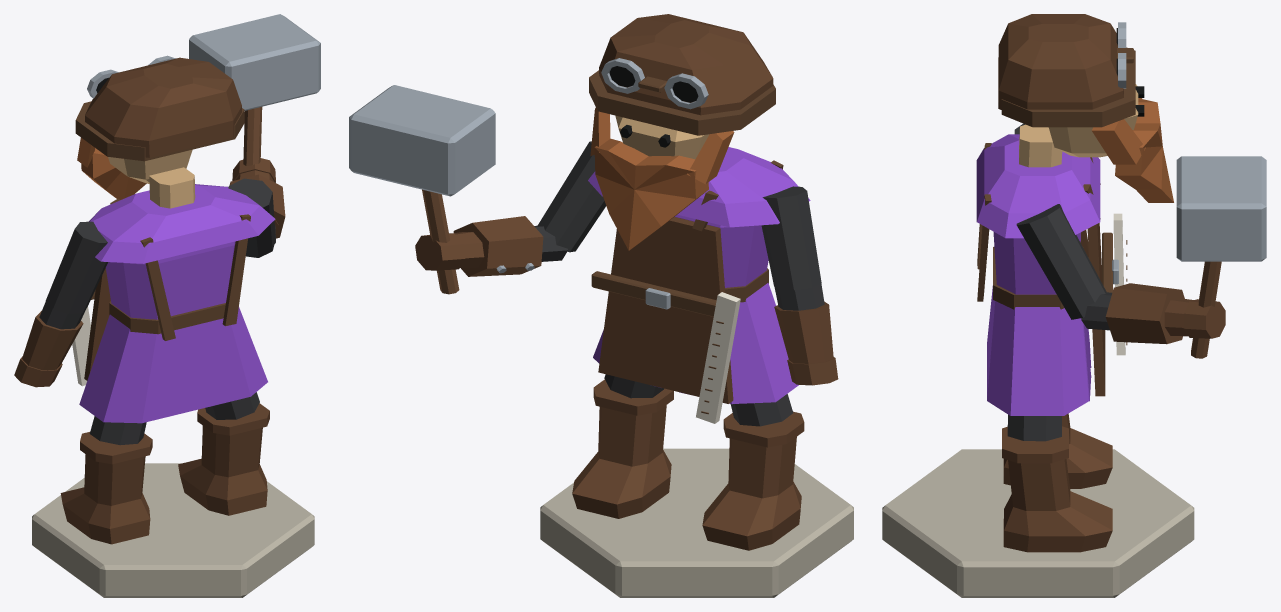
The model's file is human_runebreaker_t3.glb.
3 renders of one model, left to right at view 1: azimuth 30°, elevation 25°; view 2: azimuth 150°, elevation 25°; view 3: azimuth 270°, elevation 25°, orthographic. The views are drawn at different scales.
Visible parts, largest first — view 1: Foundation_Hexagonal_Stone, Continuous_Split_Tunic_Skirt, engineer_plain_faceted_workcap, Continuous_Shoulder_Mantle, engineer_plain_iron_hammer_head, Continuous_Tunic_Bodice, Boot_1, Boot_-1, left_upper_sleeve, left_bracer, engineer_broad_brown_cap_band, Small_Neck (+17 smaller); view 2: Foundation_Hexagonal_Stone, engineer_plain_leather_apron, engineer_plain_iron_hammer_head, engineer_plain_faceted_workcap, Boot_-1, Boot_1, engineer_one_copper_beard_wedge, Continuous_Split_Tunic_Skirt, Continuous_Shoulder_Mantle, left_upper_sleeve, engineer_broad_brown_cap_band, right_upper_sleeve (+18 smaller); view 3: Foundation_Hexagonal_Stone, engineer_plain_faceted_workcap, Continuous_Split_Tunic_Skirt, engineer_plain_iron_hammer_head, Continuous_Shoulder_Mantle, Boot_1, right_upper_sleeve, engineer_right_working_forearm_wide_leather_bracer, engineer_one_copper_beard_wedge, engineer_broad_brown_cap_band, Continuous_Tunic_Bodice, Boot_-1 (+14 smaller).
Boxes of the visible parts, x1,y1,x2,y2 form: Foundation_Hexagonal_Stone: (32,463,314,597); Continuous_Split_Tunic_Skirt: (79,307,267,423); engineer_plain_faceted_workcap: (85,57,241,157); Continuous_Shoulder_Mantle: (89,184,275,263); engineer_plain_iron_hammer_head: (189,14,320,110); Continuous_Tunic_Bodice: (105,241,235,319); Boot_1: (178,425,267,515); Boot_-1: (60,454,150,544); left_upper_sleeve: (45,221,107,313); left_bracer: (22,310,83,370); engineer_broad_brown_cap_band: (75,101,244,161); Small_Neck: (149,167,195,208); Foundation_Hexagonal_Stone: (540,448,853,597); engineer_plain_leather_apron: (598,217,733,403); engineer_plain_iron_hammer_head: (349,85,495,196); engineer_plain_faceted_workcap: (599,14,773,115); Boot_-1: (702,437,801,550); Boot_1: (572,405,671,518); engineer_one_copper_beard_wedge: (594,138,708,250); Continuous_Split_Tunic_Skirt: (593,283,798,403); Continuous_Shoulder_Mantle: (588,147,810,227); left_upper_sleeve: (761,186,821,290); engineer_broad_brown_cap_band: (589,70,775,135); right_upper_sleeve: (537,141,606,252); Foundation_Hexagonal_Stone: (882,449,1194,597); engineer_plain_faceted_workcap: (998,14,1123,109); Continuous_Split_Tunic_Skirt: (987,286,1088,415); engineer_plain_iron_hammer_head: (1176,156,1266,261); Continuous_Shoulder_Mantle: (976,134,1100,238); Boot_1: (1003,459,1112,552); right_upper_sleeve: (1016,204,1106,319); engineer_right_working_forearm_wide_leather_bracer: (1105,283,1184,344); engineer_one_copper_beard_wedge: (1115,99,1173,202); engineer_broad_brown_cap_band: (1001,47,1135,127); Continuous_Tunic_Bodice: (993,232,1080,294); Boot_-1: (1003,413,1112,488).
Bounding box in the file's own units: 1.33 × 1.68 × 1.14.
